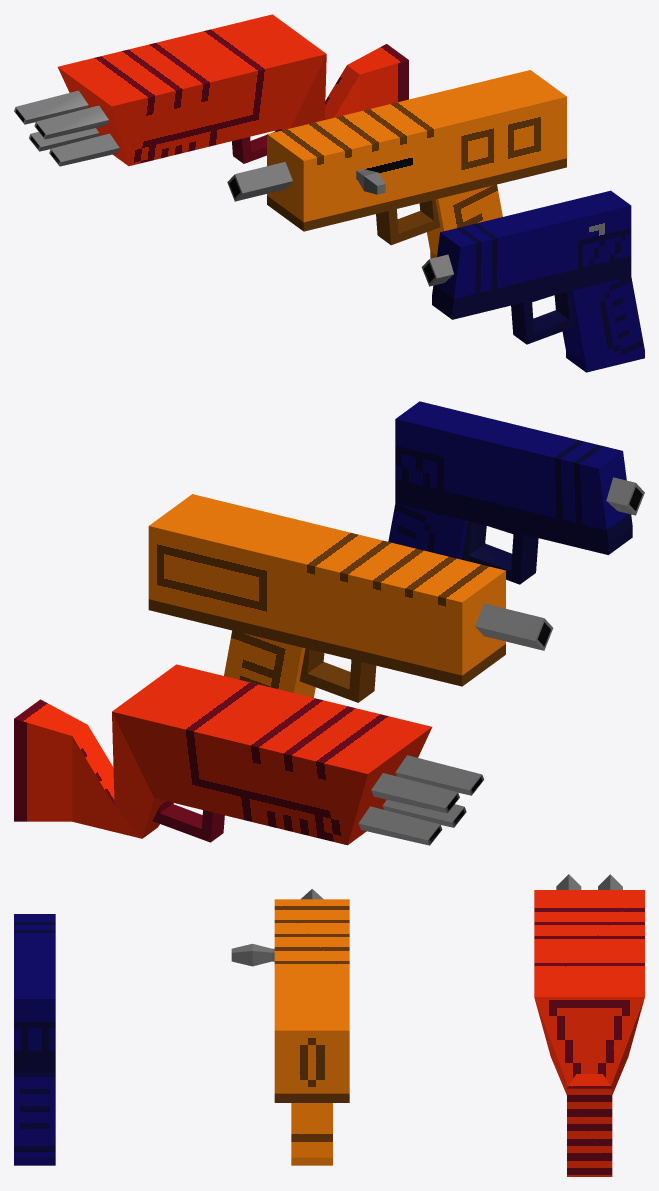
File: guns.glb
3 views of the same model, one above another, from view 1: azimuth 30°, elevation 25°; view 2: azimuth 150°, elevation 25°; view 3: azimuth 270°, elevation 25° (orthographic). The views are drawn at different scales.
Parts seen in each view (by area): view 1: smg, shotgum, pistol.001, pistol, Cylinder.002, Cube, Cube.001, Cylinder.001, Cube.004, Cylinder, Cube.002; view 2: shotgum, smg, pistol.001, Cylinder.002, pistol, Cube, Cube.001, Cylinder.001, Cube.004, Cylinder; view 3: shotgum, smg, pistol.001, pistol, Cube.002, Cylinder.002.
Part boxes in pixels (left/top/right/bottom): smg: left=267, top=70, right=566, bottom=258; shotgum: left=57, top=14, right=408, bottom=166; pistol.001: left=432, top=190, right=631, bottom=310; pistol: left=432, top=267, right=644, bottom=372; Cylinder.002: left=14, top=90, right=119, bottom=166; Cube: left=511, top=291, right=575, bottom=344; Cube.001: left=376, top=199, right=440, bottom=245; Cylinder.001: left=227, top=162, right=292, bottom=201; Cube.004: left=232, top=129, right=282, bottom=163; Cylinder: left=421, top=254, right=453, bottom=286; Cube.002: left=356, top=168, right=385, bottom=194; shotgum: left=14, top=664, right=432, bottom=845; smg: left=148, top=494, right=505, bottom=697; pistol.001: left=395, top=401, right=632, bottom=543; Cylinder.002: left=358, top=755, right=483, bottom=845; pistol: left=388, top=492, right=632, bottom=559; Cube: left=461, top=521, right=538, bottom=584; Cube.001: left=299, top=648, right=376, bottom=702; Cylinder.001: left=475, top=603, right=553, bottom=650; Cube.004: left=152, top=801, right=224, bottom=842; Cylinder: left=606, top=477, right=644, bottom=515; shotgum: left=534, top=890, right=644, bottom=1176; smg: left=274, top=899, right=349, bottom=1165; pistol.001: left=14, top=914, right=55, bottom=1061; pistol: left=14, top=1062, right=55, bottom=1165; Cube.002: left=231, top=943, right=274, bottom=966; Cylinder.002: left=556, top=874, right=622, bottom=889.
Bounding box in the file's own units: 6.59 × 2.54 × 9.1.
4 materials, 3 textured.
